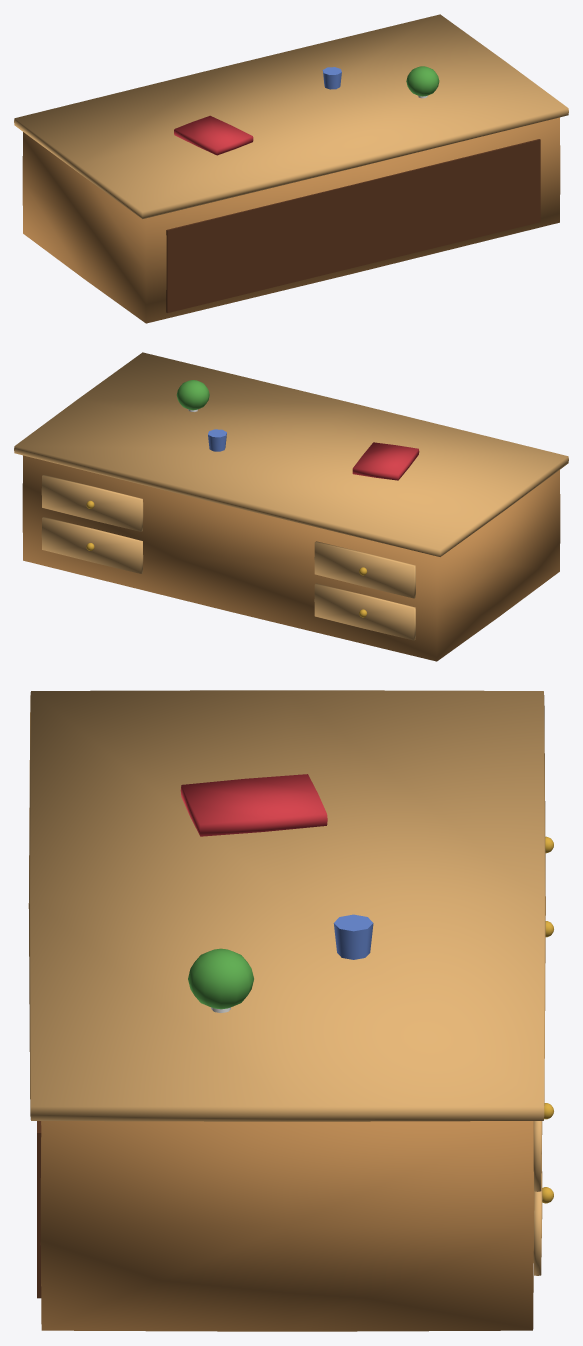
Rendered from teacher_desk.glb.
The picture shows the model from 3 angles, top to bottom: view 1: azimuth 30°, elevation 25°; view 2: azimuth 150°, elevation 25°; view 3: azimuth 270°, elevation 25°; orthographic projection. The views are drawn at different scales.
Parts seen in each view (by area): view 1: root; view 2: root; view 3: root.
Boxes of the visible parts, left/top/right/bottom form: root: left=14, top=14, right=568, bottom=323; root: left=14, top=352, right=568, bottom=661; root: left=28, top=690, right=553, bottom=1331.
Bounding box in the file's own units: 2.98 × 0.97 × 1.58.
